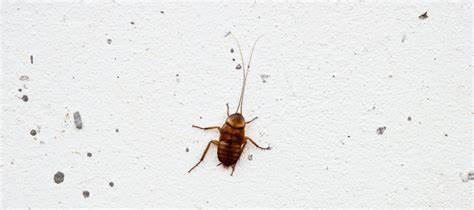cockroach: (216, 108, 247, 170)
